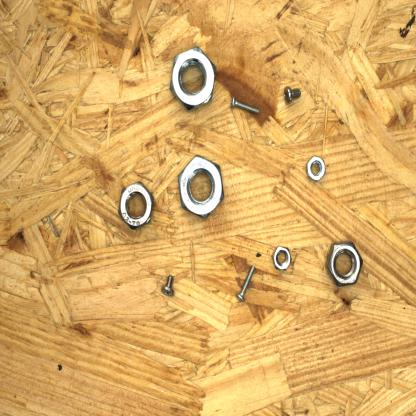screw: (234, 262, 258, 305), (228, 92, 261, 117), (158, 273, 178, 300), (283, 83, 304, 104)
